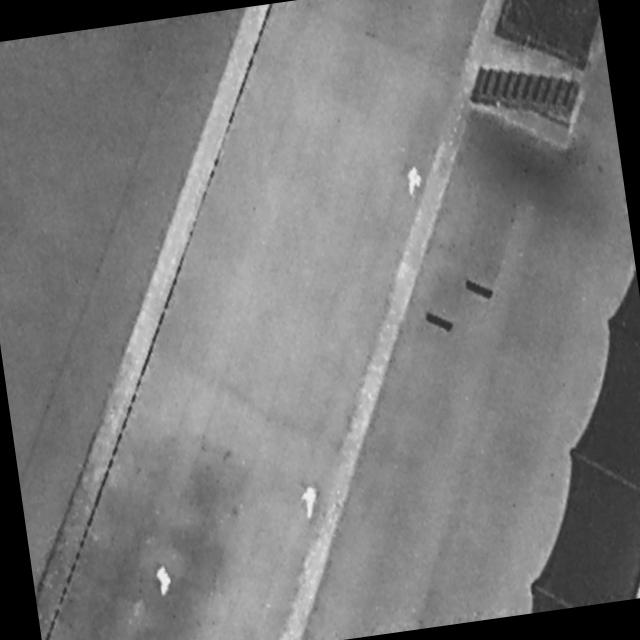person: (295, 481, 324, 525), (402, 163, 429, 202), (153, 562, 176, 600)
